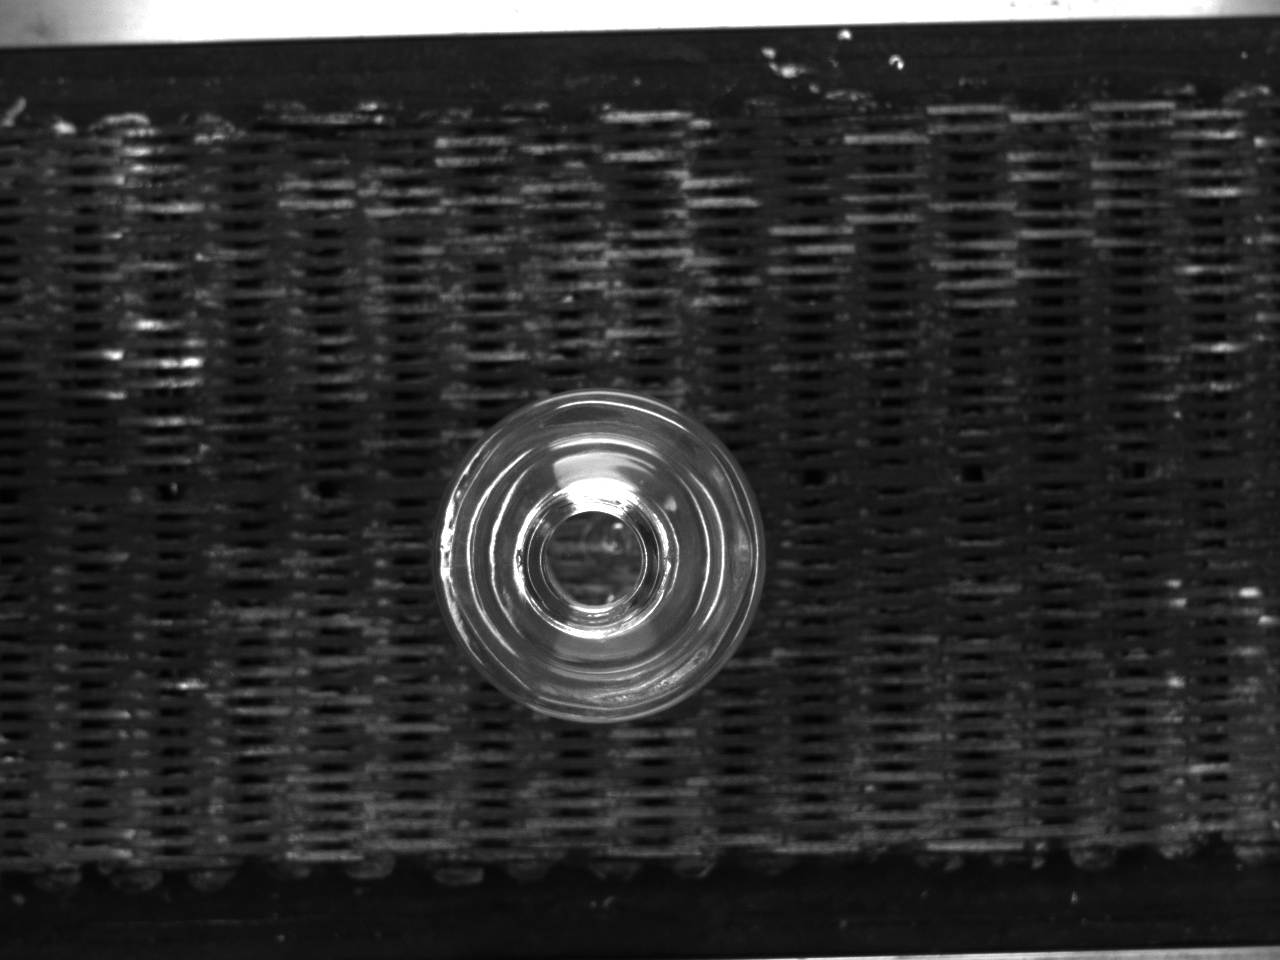bottleneck: (521, 480, 678, 637)
